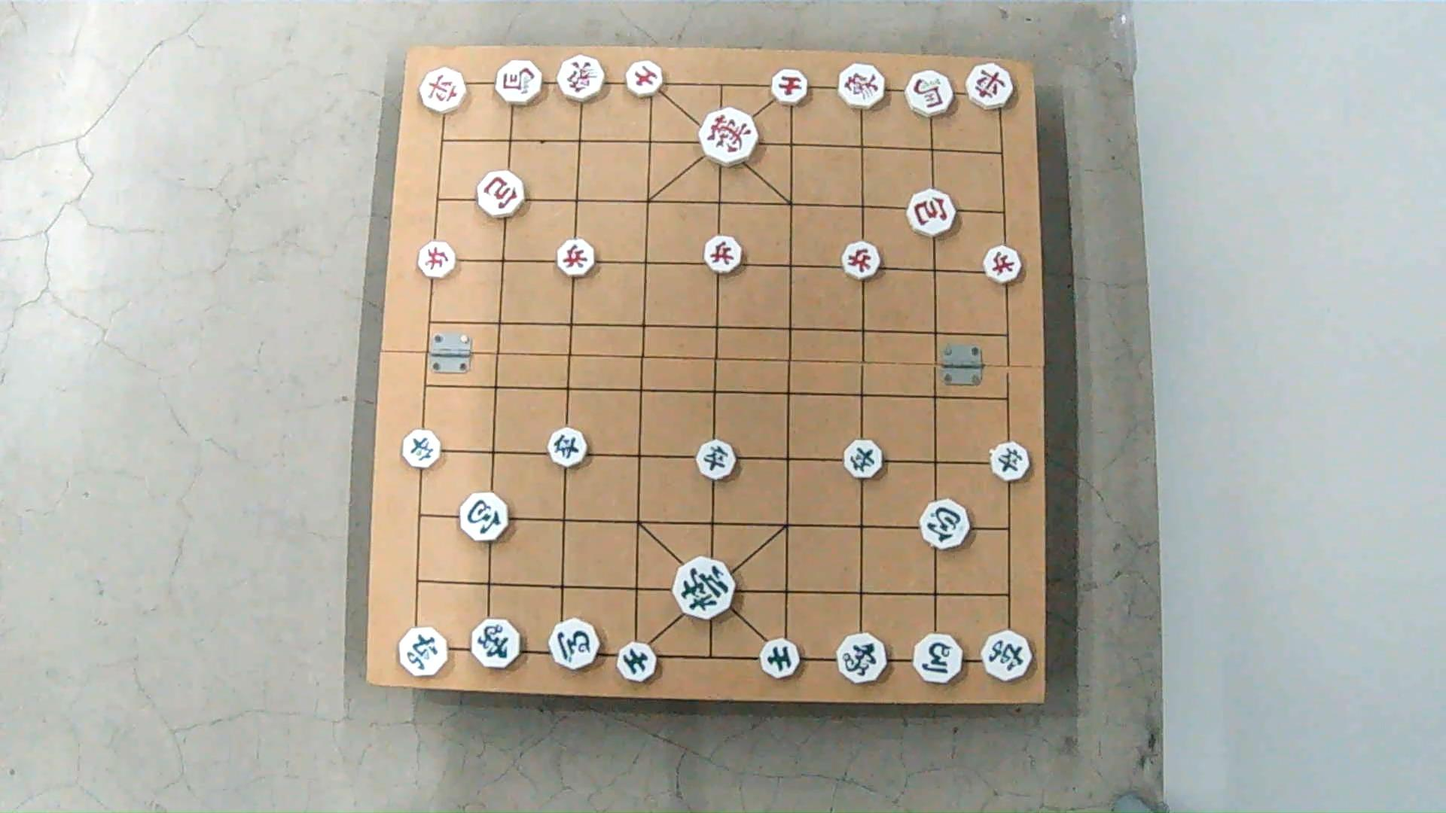cha_green: (980, 632, 1034, 680), (396, 629, 449, 674)
cha_red: (963, 65, 1014, 108), (416, 70, 468, 111)
jol_green: (693, 443, 738, 477), (844, 443, 887, 478), (987, 443, 1030, 478), (399, 432, 444, 465), (547, 431, 591, 464)
jol_red: (841, 242, 884, 277), (417, 243, 462, 276), (703, 236, 745, 271), (983, 248, 1024, 283), (554, 243, 596, 277)
ma_green: (912, 636, 967, 682), (547, 621, 600, 668)
ma_red: (902, 74, 956, 116), (497, 63, 548, 105)
po_green: (917, 501, 975, 550), (459, 498, 511, 542)
po_red: (908, 193, 959, 236), (477, 174, 527, 215)
sa_green: (615, 645, 659, 682), (760, 642, 804, 679)
sa_red: (770, 71, 815, 104), (624, 63, 666, 96)
sang_green: (472, 618, 523, 671), (835, 635, 889, 681)
sang_red: (554, 58, 606, 102), (836, 67, 886, 109)
wang_green: (674, 562, 738, 617)
wang_red: (699, 108, 758, 163)
